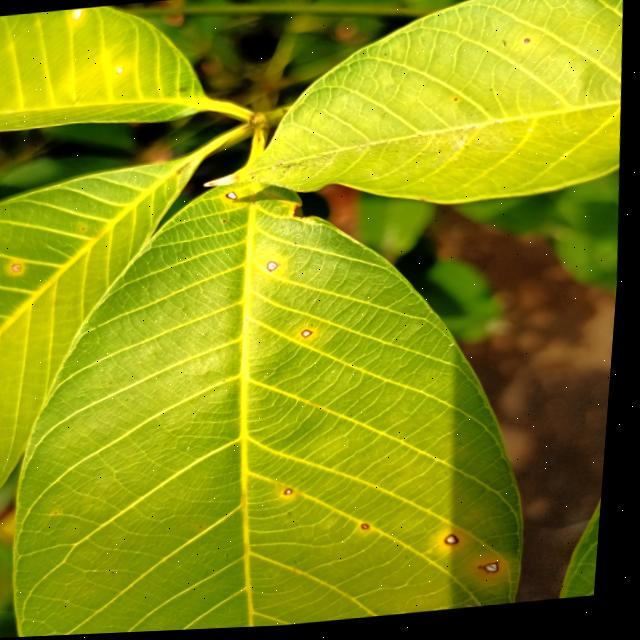Colletotrichum: (491, 567, 509, 578), (452, 539, 468, 550), (270, 264, 283, 275), (306, 332, 318, 342), (229, 193, 241, 203), (292, 492, 300, 498), (370, 527, 378, 533), (525, 44, 531, 48), (227, 223, 230, 225)
Leaf-Blight: (205, 175, 241, 190)
